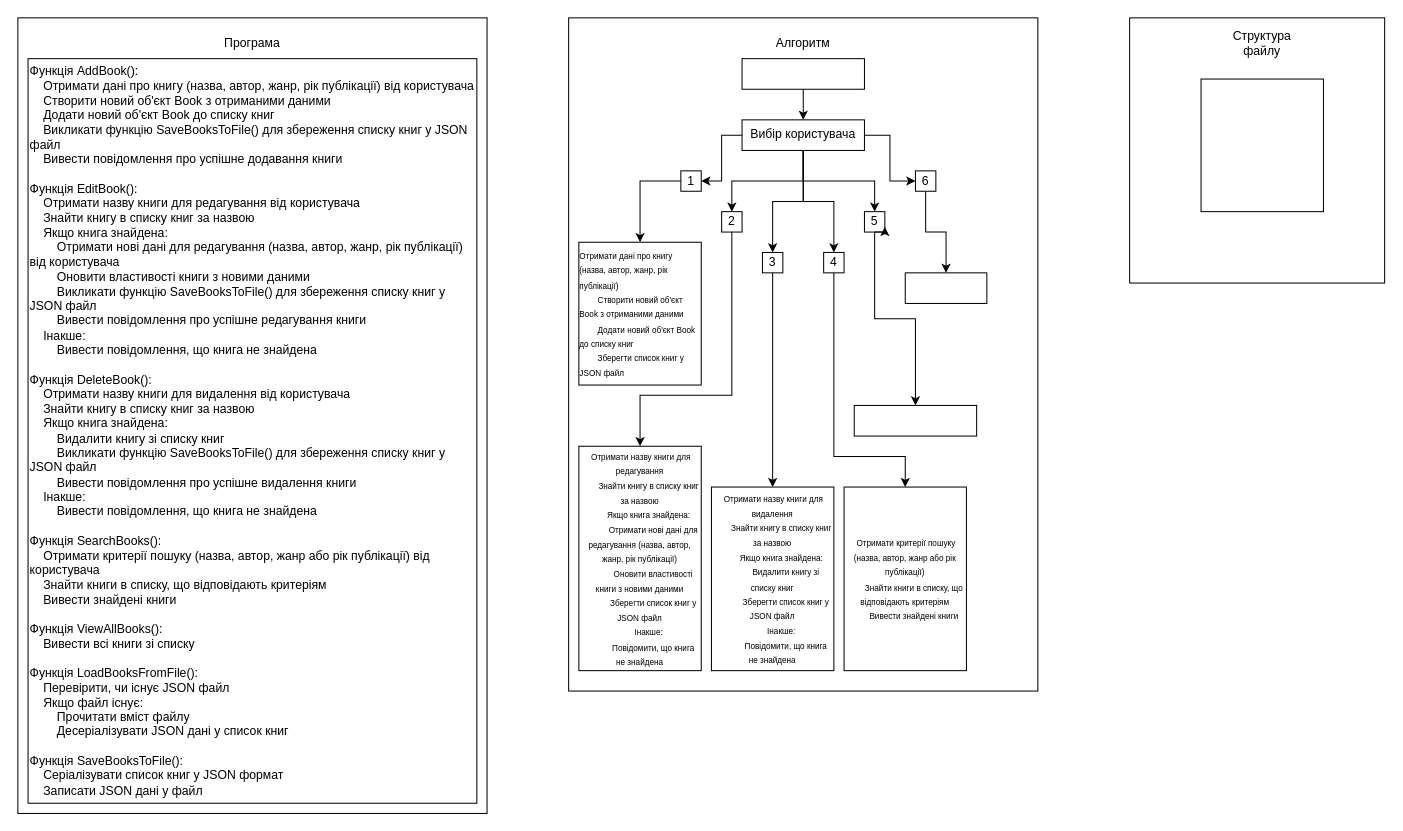
The diagram is 1403 pixels wide and 831 high, and some of its shapes have lost their labels. The shapes that lost their labels are listed below. From the top down, each one's box as (x1, y1, x2, y2) in pixels, then its label:
(741, 58, 864, 89): Завантажити дані з бази данних
(1200, 78, 1323, 212): Title: string Author: string Genre: string PublicationYear: int
(904, 272, 987, 303): Вийти з циклу
(853, 404, 977, 436): Вивести всі книги зі списку
